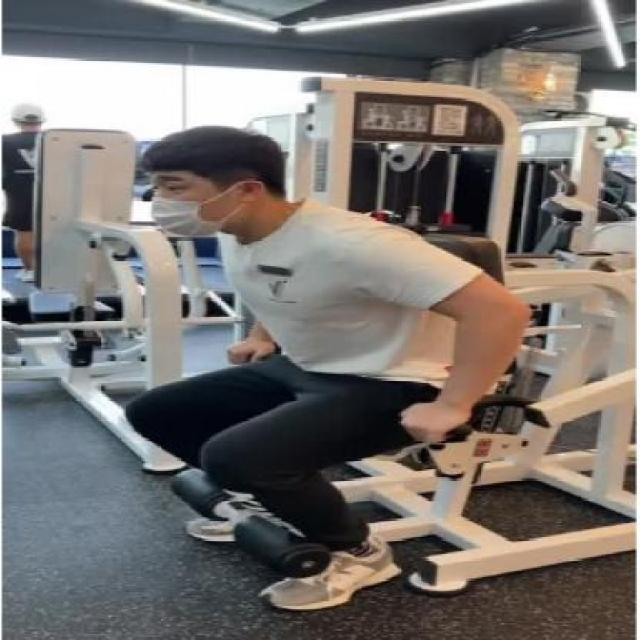seated dip machine: (75, 63, 640, 626)
